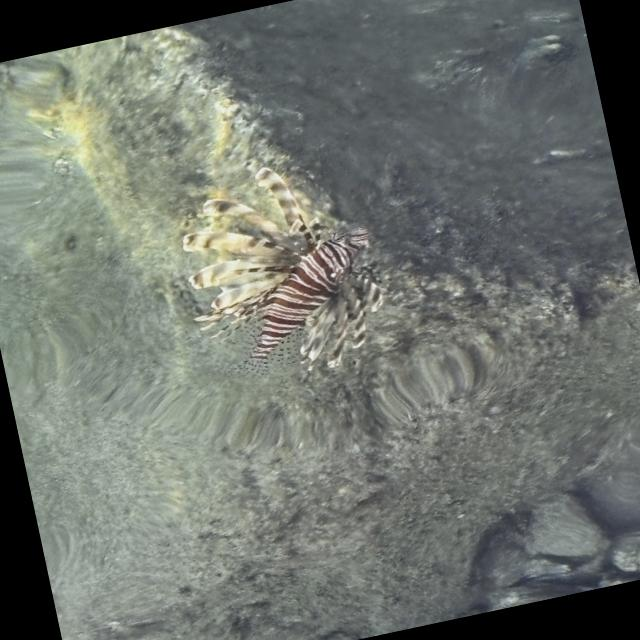Aslan Baligi: (163, 144, 402, 396)
